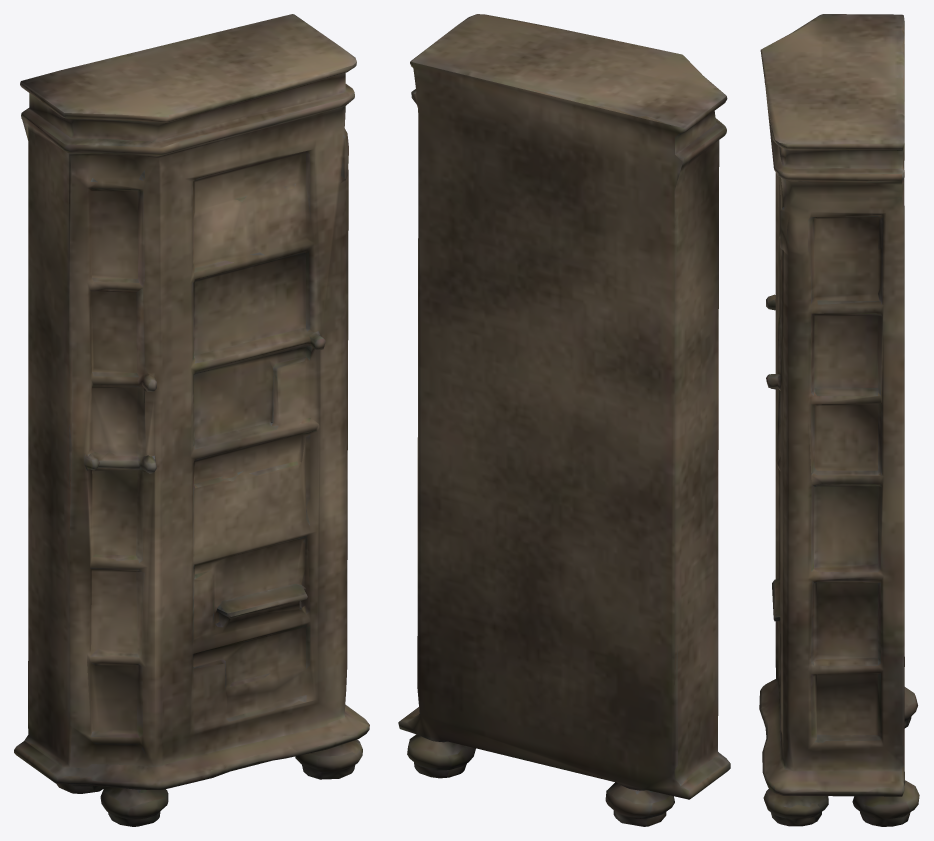
The model's file is sturdy-wood-bookcase-v001.glb.
3 views of the same model, side by side, from view 1: azimuth 30°, elevation 25°; view 2: azimuth 150°, elevation 25°; view 3: azimuth 270°, elevation 25° (orthographic). The views are drawn at different scales.
Parts seen in each view (by area): view 1: sturdy-wood-bookcase; view 2: sturdy-wood-bookcase; view 3: sturdy-wood-bookcase.
Part boxes in pixels (x1,y1,x2,y2): sturdy-wood-bookcase: (14, 14, 369, 826); sturdy-wood-bookcase: (398, 14, 730, 826); sturdy-wood-bookcase: (759, 14, 919, 826).
Size of the model in its own units: 1 by 2.32 by 0.4902.
Materials: 1 (1 with a texture image).
